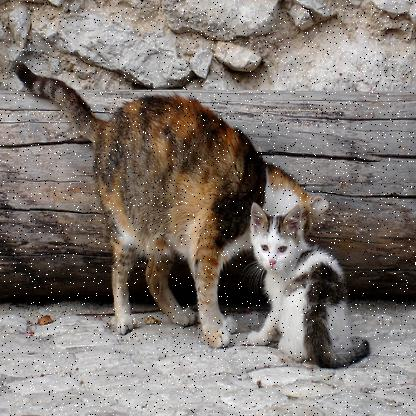cat: (12, 48, 332, 350), (249, 200, 374, 371)
